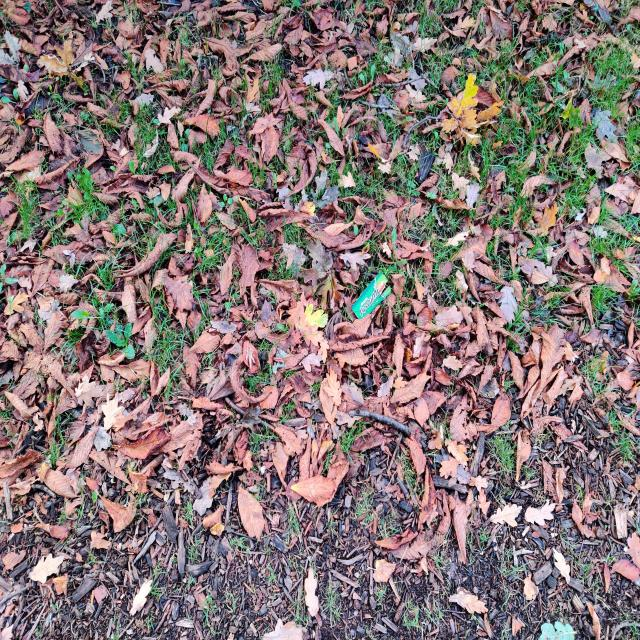litter: (349, 273, 393, 326)
